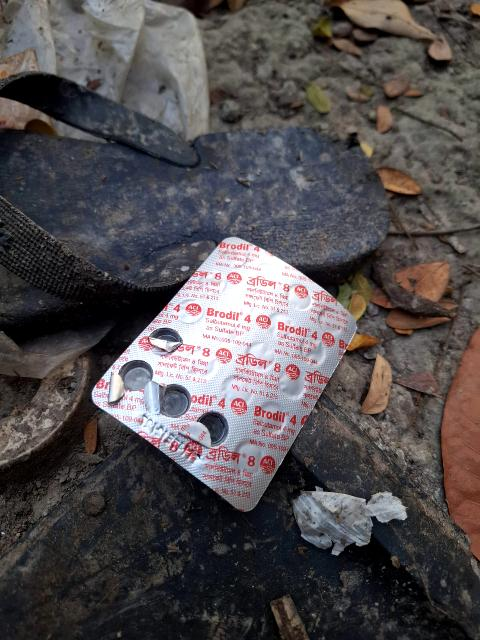medicine: (82, 212, 369, 501)
